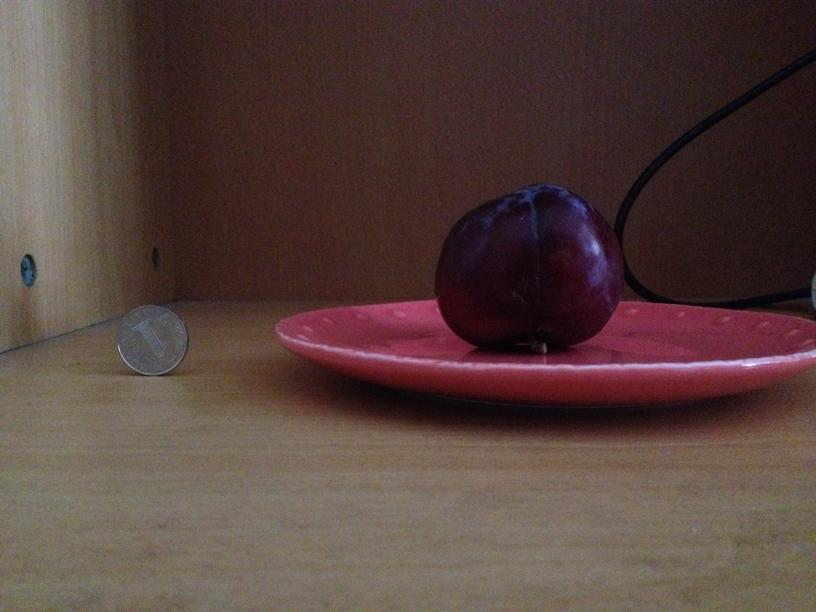coin: (109, 307, 190, 377)
plum: (437, 187, 618, 352)
